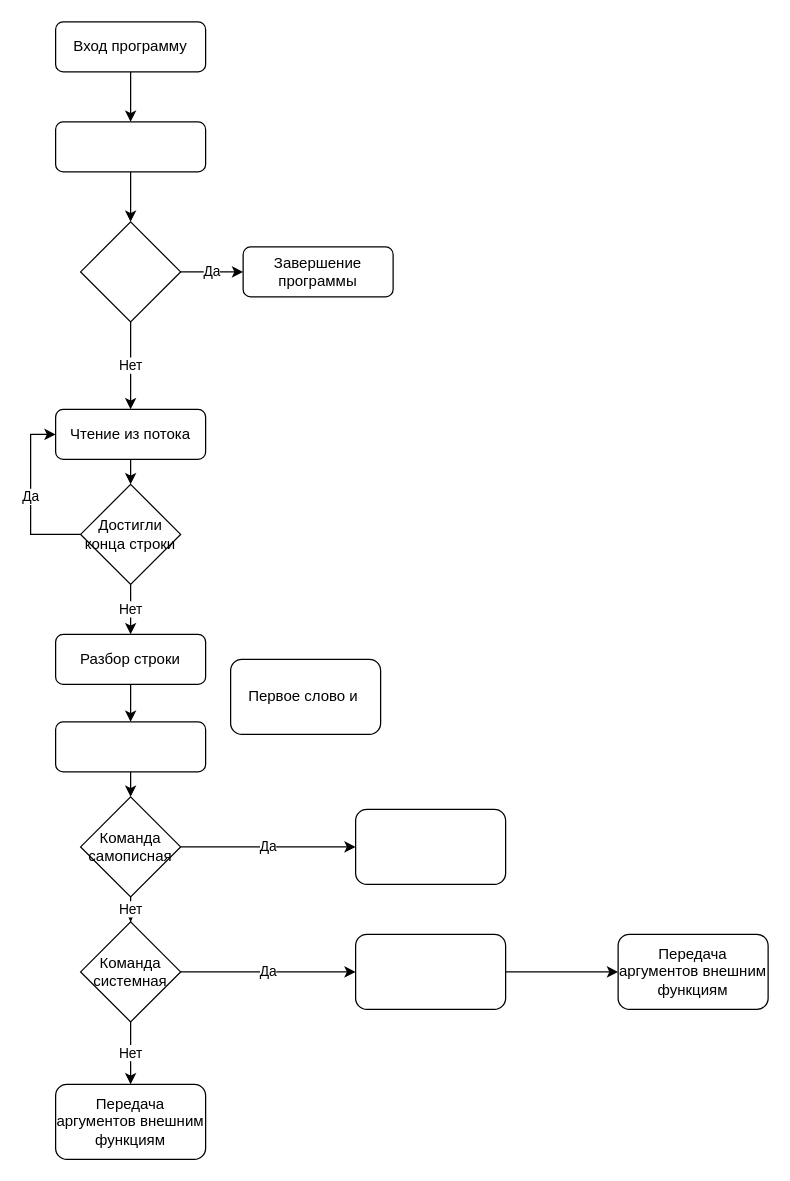
Image size: 790x1181. Some labels were removed from this diagram. Here are the shapes that lost their labels. From the top down, the centre of each, then its label:
point 130,146: Инициализация списка переменных окружения
point 130,271: Закрыли программу
point 130,746: Поиск команды
point 430,846: Передача аргументов самописным функциям
point 430,971: Создание дочернего процесса
